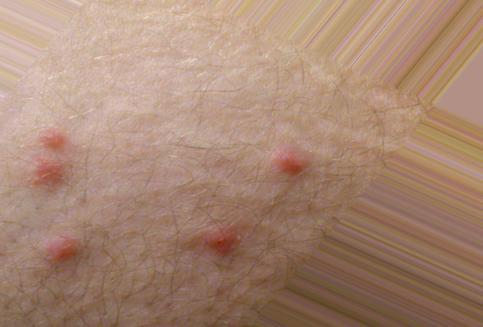Fleas: (188, 221, 241, 260), (271, 143, 312, 176), (43, 232, 83, 264), (32, 158, 64, 187), (38, 126, 71, 153)
